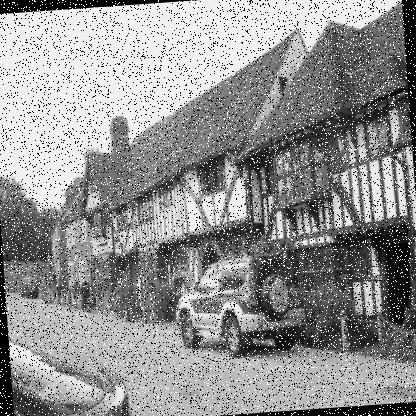Car: (172, 250, 307, 363), (8, 312, 133, 415), (18, 277, 40, 298)
